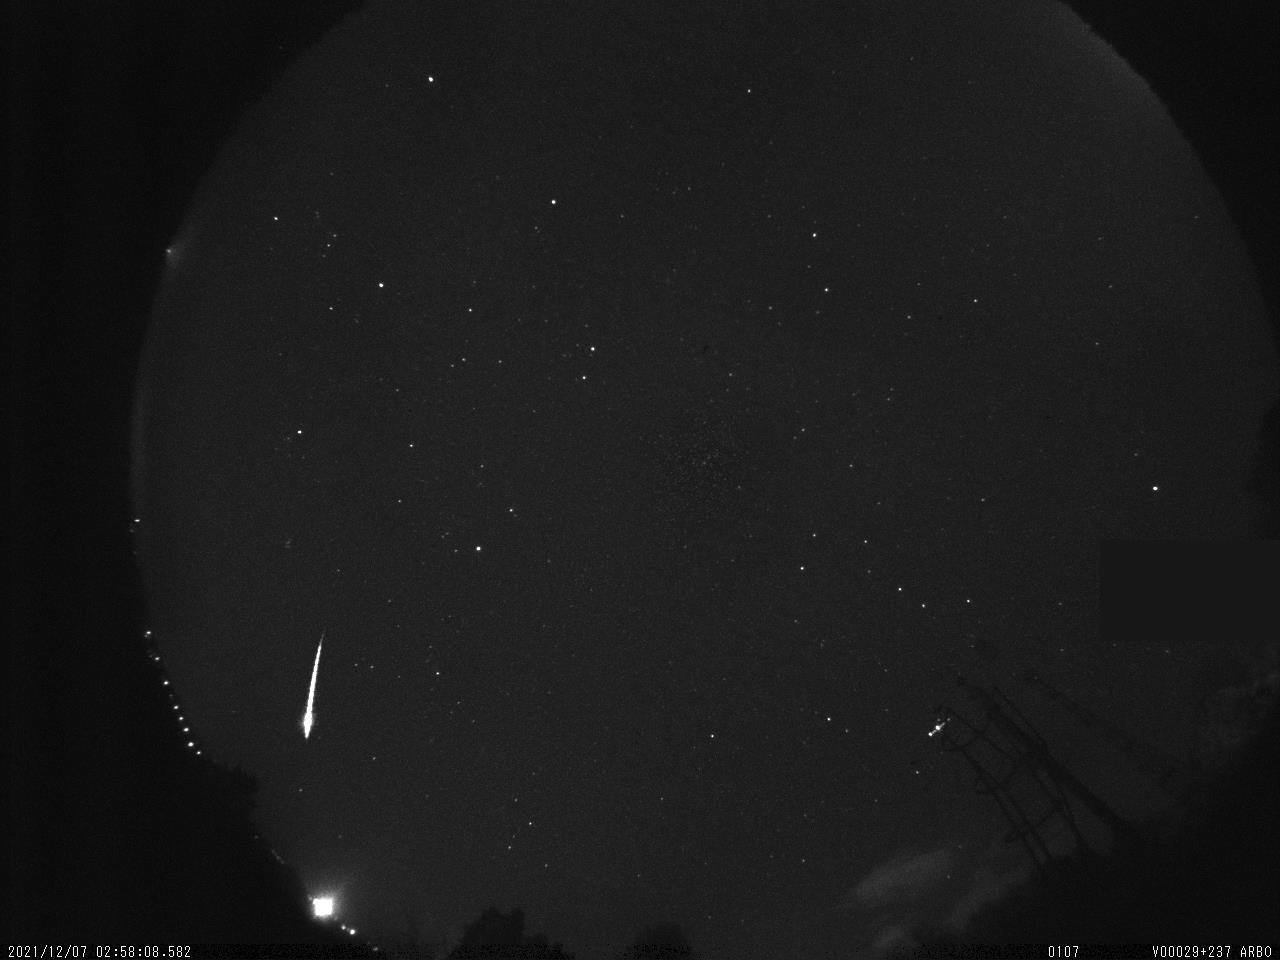meteor: (297, 636, 324, 747)
